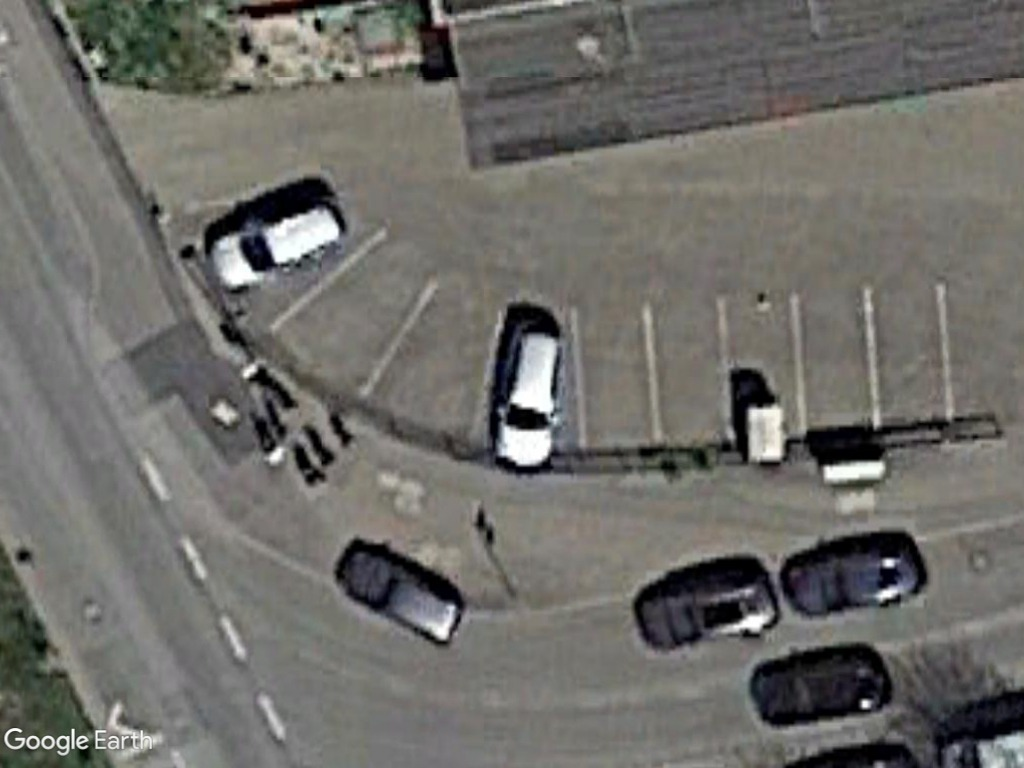car: (334, 541, 469, 649), (210, 191, 350, 295), (488, 317, 571, 475)
